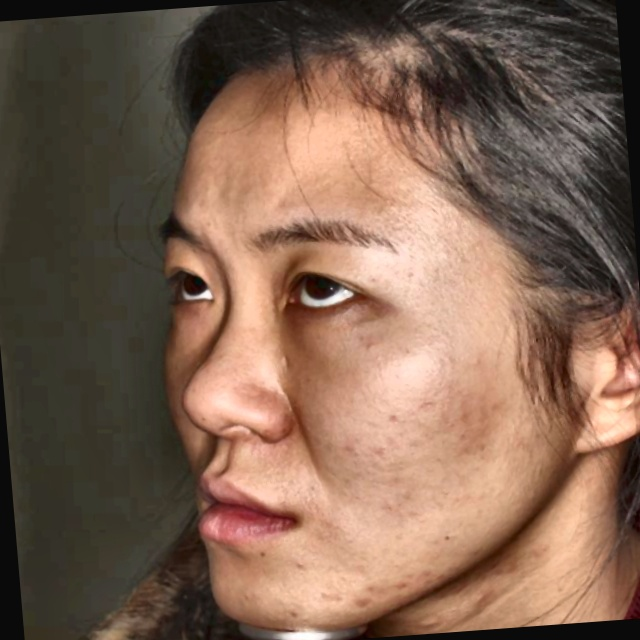comedone: (390, 569, 432, 597), (350, 578, 375, 617)
